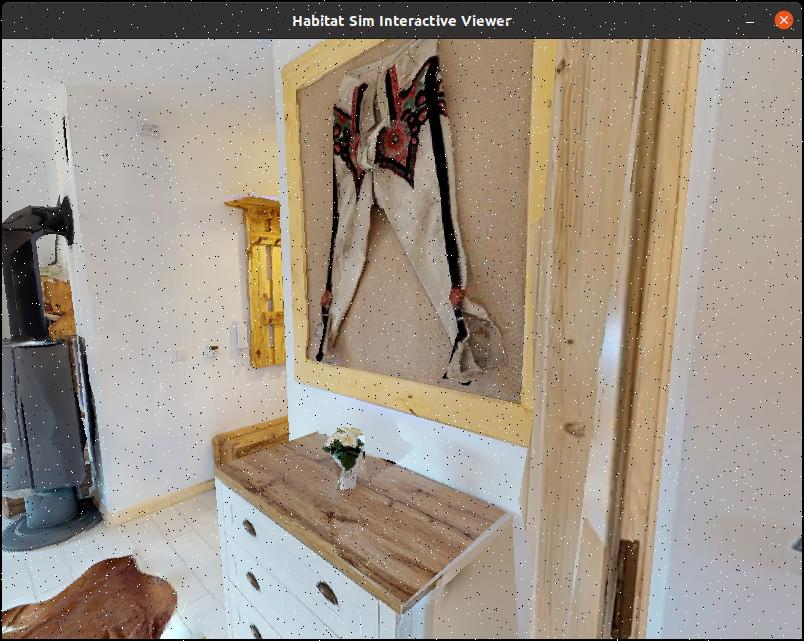table: (202, 422, 525, 641)
